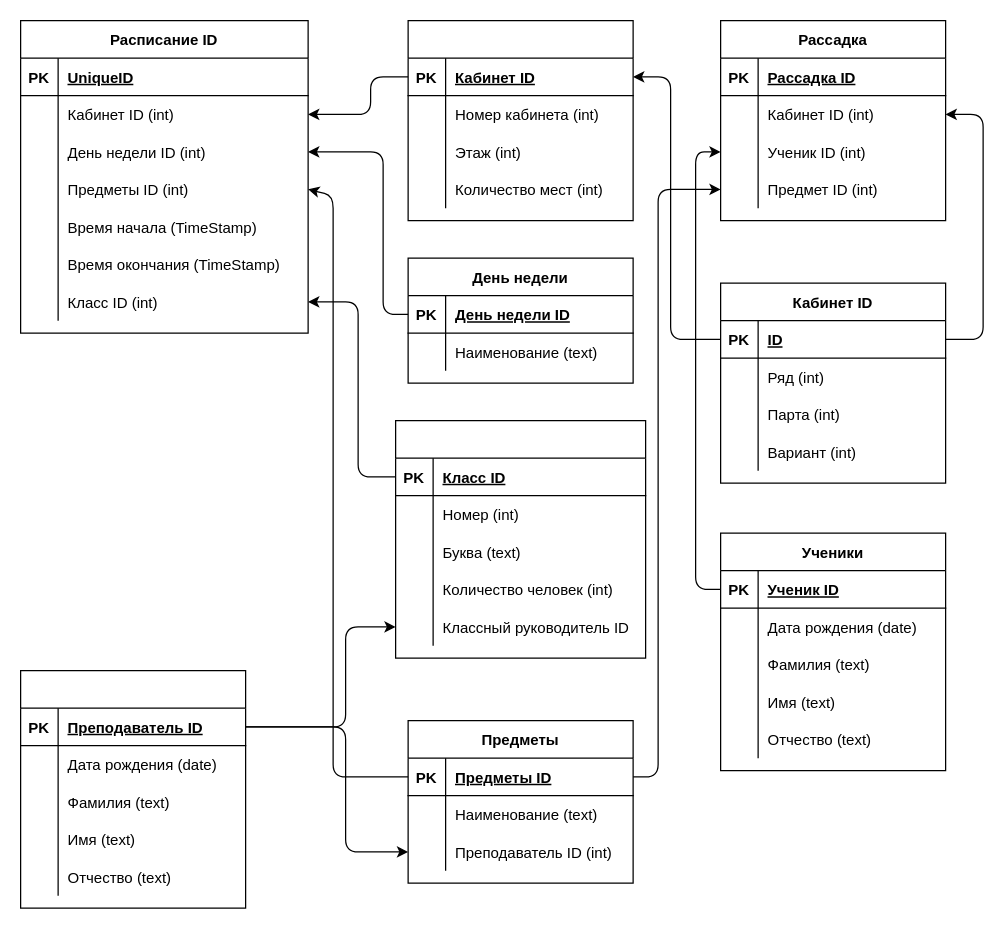
Image size: 1004x929. Some labels were removed from this diagram. Here are the shapes that lost their labels. From the top down, the box of each, then its label:
(407, 19, 633, 221): Кабинеты
(394, 419, 646, 658): Классы
(19, 669, 246, 908): Преподаватели
